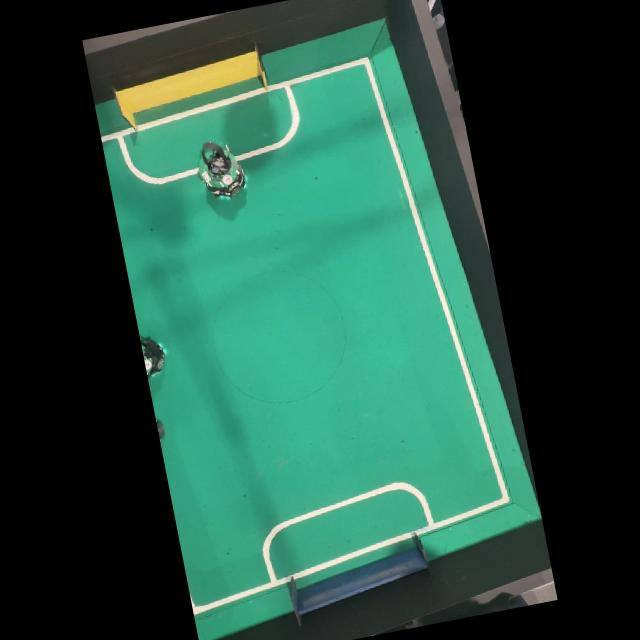goal: (290, 532, 429, 626), (115, 48, 267, 130)
robot: (198, 142, 245, 198), (140, 337, 165, 379), (156, 418, 165, 440)
